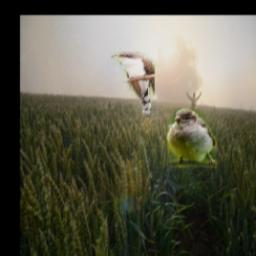Cuckoo: (111, 52, 155, 117)
Sparrow: (167, 109, 217, 169)
